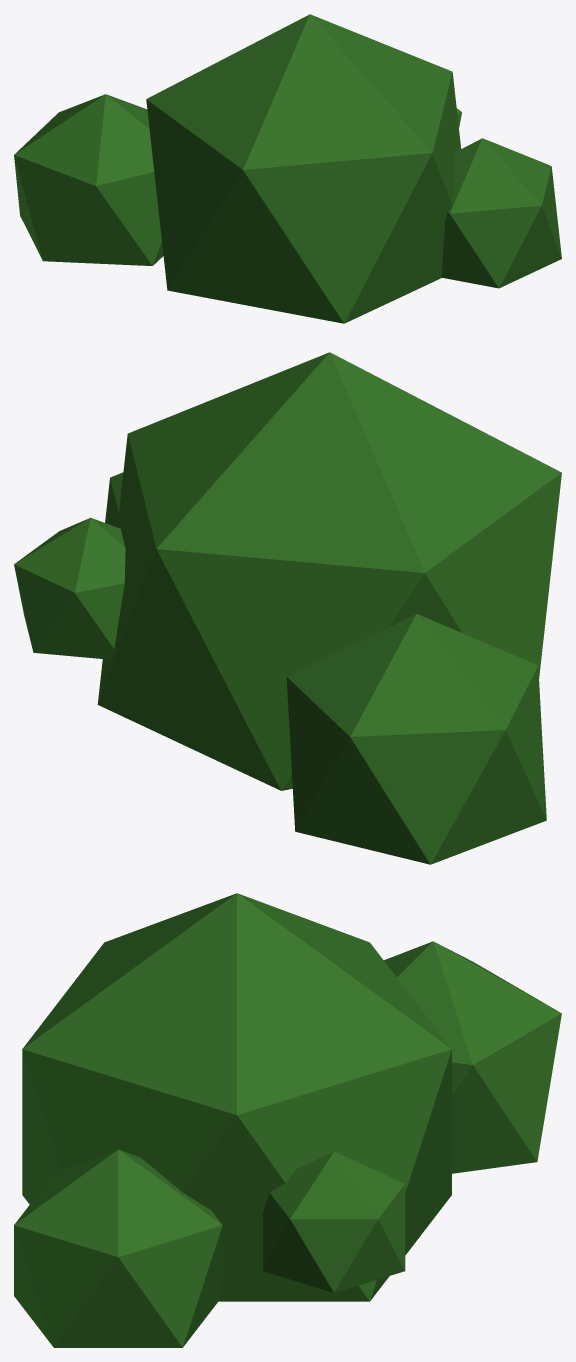
File: BUSH2.fbx
The picture shows the model from 3 angles, top to bottom: view 1: azimuth 30°, elevation 25°; view 2: azimuth 150°, elevation 25°; view 3: azimuth 270°, elevation 25°; orthographic projection. The views are drawn at different scales.
Parts seen in each view (by area): view 1: Icosphere.015, Icosphere.017, Icosphere.016; view 2: Icosphere.015, Icosphere.017, Icosphere.018, Icosphere.016; view 3: Icosphere.015, Icosphere.016, Icosphere.017, Icosphere.018.
Part boxes in pixels (x1,y1,x2,y2): Icosphere.015: [146, 14, 461, 323]; Icosphere.017: [14, 94, 163, 265]; Icosphere.016: [441, 138, 561, 288]; Icosphere.015: [97, 352, 561, 790]; Icosphere.017: [286, 614, 546, 864]; Icosphere.018: [14, 517, 125, 659]; Icosphere.016: [105, 472, 123, 527]; Icosphere.015: [22, 893, 451, 1301]; Icosphere.016: [14, 1149, 222, 1347]; Icosphere.017: [384, 941, 561, 1173]; Icosphere.018: [263, 1152, 405, 1292].
Size of the model in its own units: 58.62 by 34.61 by 49.65.
